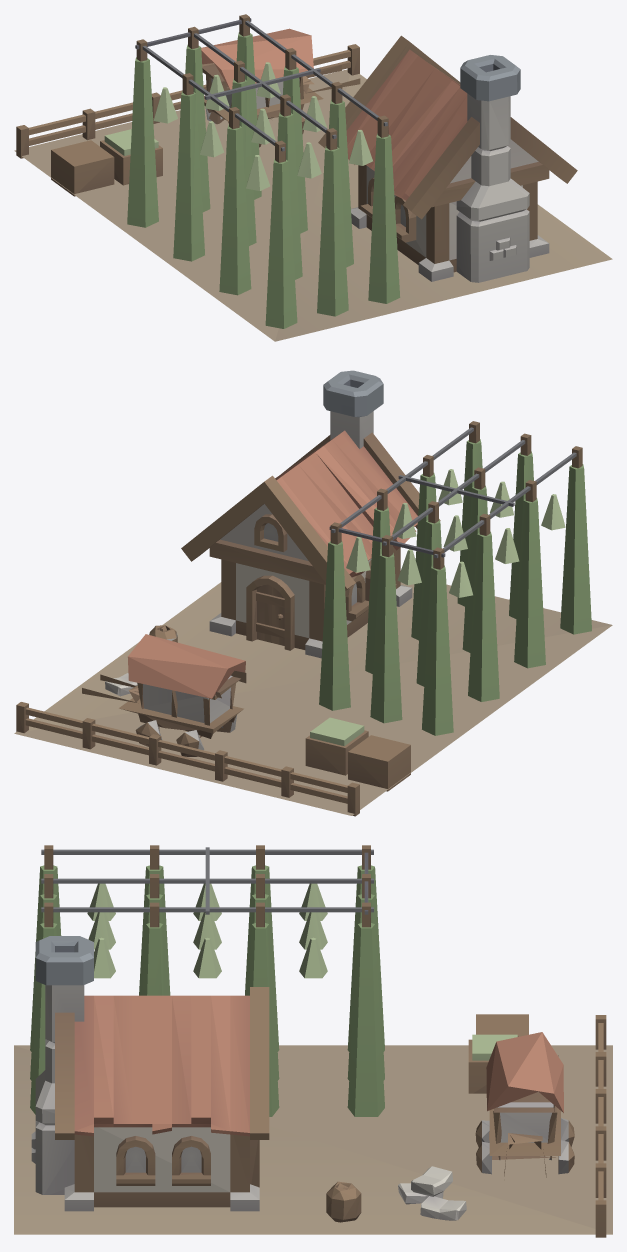
Rendered from hop_farm.glb.
3 views of the same model, one above another, from view 1: azimuth 30°, elevation 25°; view 2: azimuth 150°, elevation 25°; view 3: azimuth 270°, elevation 25° (orthographic). The views are drawn at different scales.
Visible parts, largest first — view 1: hop_farm; view 2: hop_farm; view 3: hop_farm.
Part boxes in pixels (box(x1,y1,x2,y2)): hop_farm: box(14, 14, 612, 341); hop_farm: box(14, 370, 612, 816); hop_farm: box(14, 845, 612, 1237).
Bounding box in the file's own units: 2.97 × 1.72 × 3.96.
